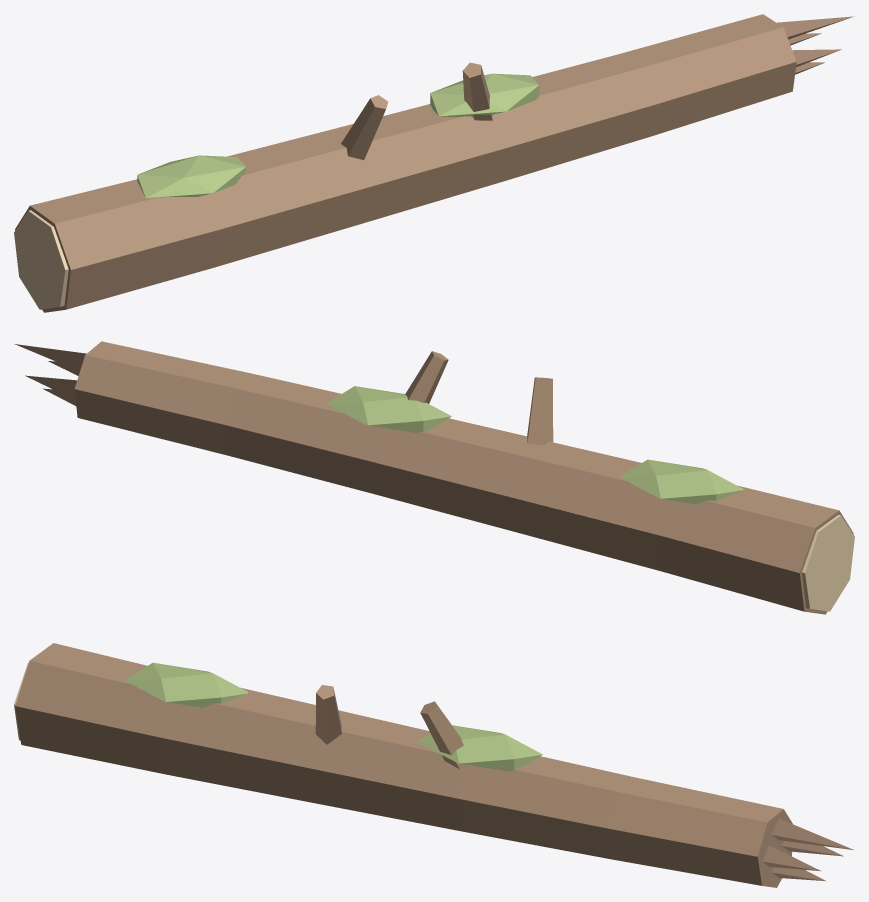
File: tronco_caido_0.fbx
The picture shows the model from 3 angles, top to bottom: view 1: azimuth 30°, elevation 25°; view 2: azimuth 150°, elevation 25°; view 3: azimuth 330°, elevation 25°; orthographic projection. The views are drawn at different scales.
Parts seen in each view (by area): view 1: tronco_caido_0~Tronco@bark, tronco_caido_0~Corte@woodcut, tronco_caido_0~Musgo 0@moss, tronco_caido_0~Musgo 1@moss, tronco_caido_0~Toco de galho 1@bark, tronco_caido_0~Toco de galho 0@bark, tronco_caido_0~Lasca 0@barkdark; view 2: tronco_caido_0~Tronco@bark, tronco_caido_0~Corte@woodcut, tronco_caido_0~Musgo 1@moss, tronco_caido_0~Musgo 0@moss, tronco_caido_0~Toco de galho 1@bark, tronco_caido_0~Toco de galho 0@bark, tronco_caido_0~Lasca 0@barkdark, tronco_caido_0~Lasca 1@barkdark; view 3: tronco_caido_0~Tronco@bark, tronco_caido_0~Musgo 0@moss, tronco_caido_0~Musgo 1@moss, tronco_caido_0~Toco de galho 0@bark, tronco_caido_0~Toco de galho 1@bark, tronco_caido_0~Lasca 0@barkdark, tronco_caido_0~Lasca 3@barkdark, tronco_caido_0~Lasca 1@barkdark.
Part boxes in pixels (<box>): tronco_caido_0~Tronco@bark: <box>15,14,796,312</box>; tronco_caido_0~Corte@woodcut: <box>14,210,68,309</box>; tronco_caido_0~Musgo 0@moss: <box>137,155,245,197</box>; tronco_caido_0~Musgo 1@moss: <box>430,73,539,116</box>; tronco_caido_0~Toco de galho 1@bark: <box>341,95,388,159</box>; tronco_caido_0~Toco de galho 0@bark: <box>462,62,492,120</box>; tronco_caido_0~Lasca 0@barkdark: <box>777,16,854,39</box>; tronco_caido_0~Tronco@bark: <box>74,341,853,614</box>; tronco_caido_0~Corte@woodcut: <box>802,515,854,611</box>; tronco_caido_0~Musgo 1@moss: <box>326,386,451,433</box>; tronco_caido_0~Musgo 0@moss: <box>621,459,744,504</box>; tronco_caido_0~Toco de galho 1@bark: <box>527,377,553,445</box>; tronco_caido_0~Toco de galho 0@bark: <box>405,351,448,403</box>; tronco_caido_0~Lasca 0@barkdark: <box>14,344,86,371</box>; tronco_caido_0~Lasca 1@barkdark: <box>25,375,76,400</box>; tronco_caido_0~Tronco@bark: <box>15,643,792,887</box>; tronco_caido_0~Musgo 0@moss: <box>124,662,248,707</box>; tronco_caido_0~Musgo 1@moss: <box>417,725,542,771</box>; tronco_caido_0~Toco de galho 0@bark: <box>420,701,463,769</box>; tronco_caido_0~Toco de galho 1@bark: <box>315,685,341,744</box>; tronco_caido_0~Lasca 0@barkdark: <box>771,818,854,850</box>; tronco_caido_0~Lasca 3@barkdark: <box>762,845,821,871</box>; tronco_caido_0~Lasca 1@barkdark: <box>782,841,843,856</box>.
Size of the model in its own units: 4.67 by 0.8506 by 0.597.
